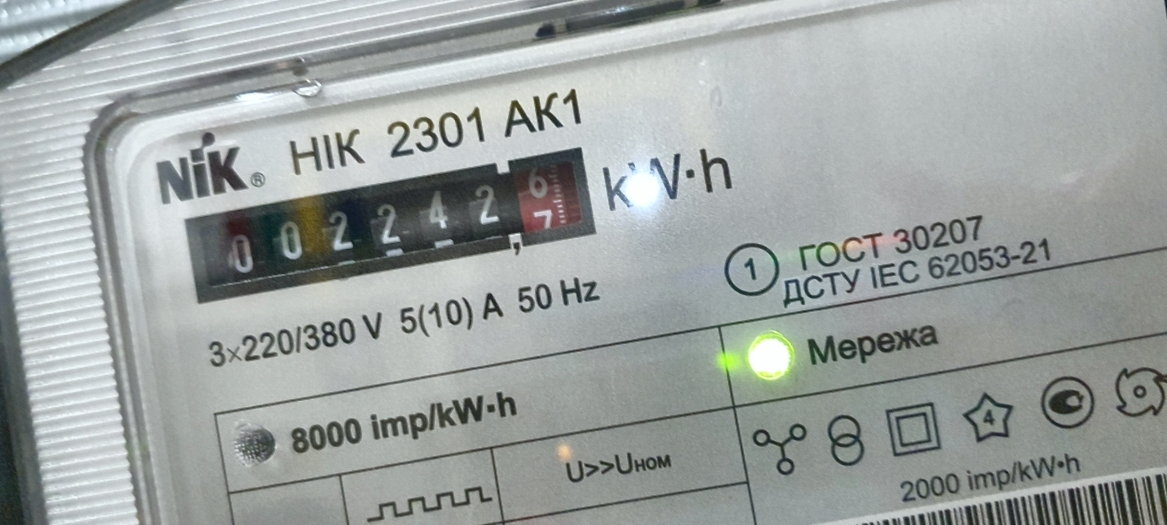0: (275, 217, 307, 263), (326, 208, 356, 254), (229, 230, 257, 277)
2: (472, 181, 503, 228), (375, 201, 405, 248)
4: (423, 188, 452, 234)
6: (524, 165, 553, 202)
7: (531, 207, 558, 233)
screen: (172, 134, 617, 321)
